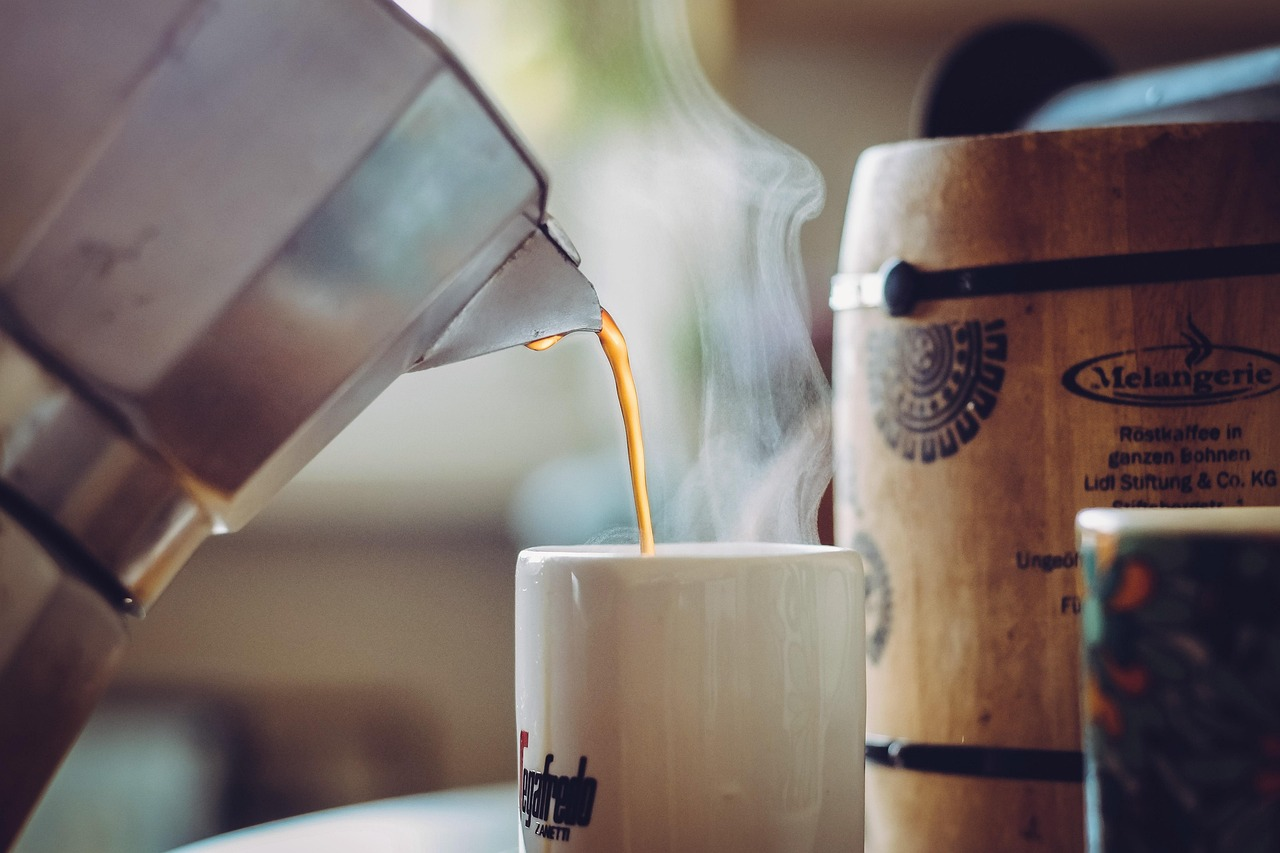mug: (483, 524, 905, 853)
